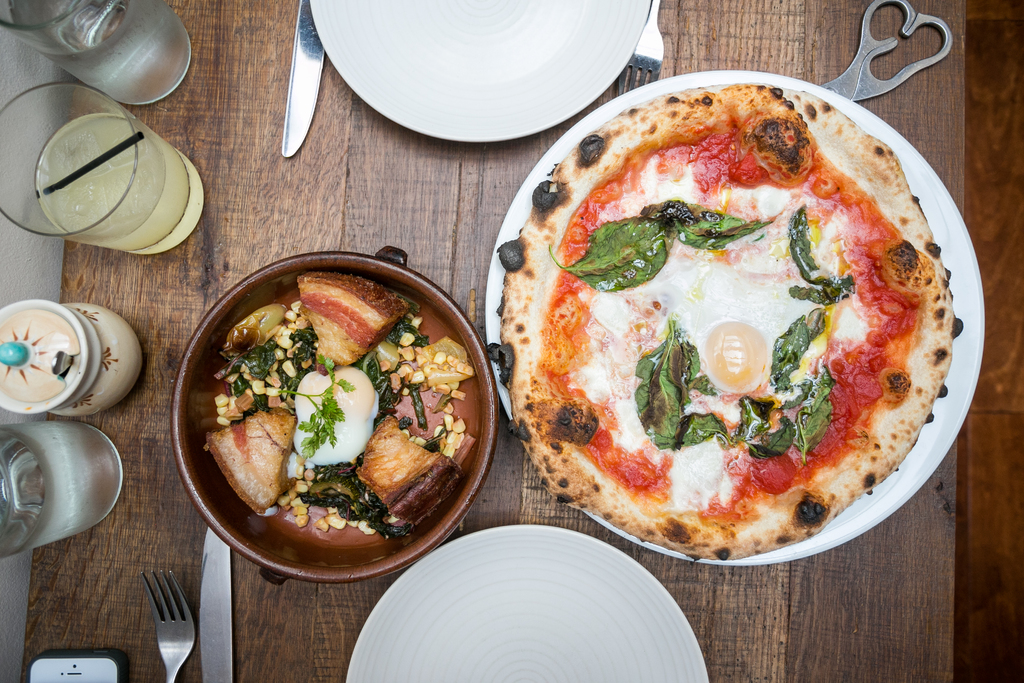Pizza: (496, 74, 958, 580), (358, 405, 480, 531), (189, 392, 299, 525), (296, 271, 420, 376)
